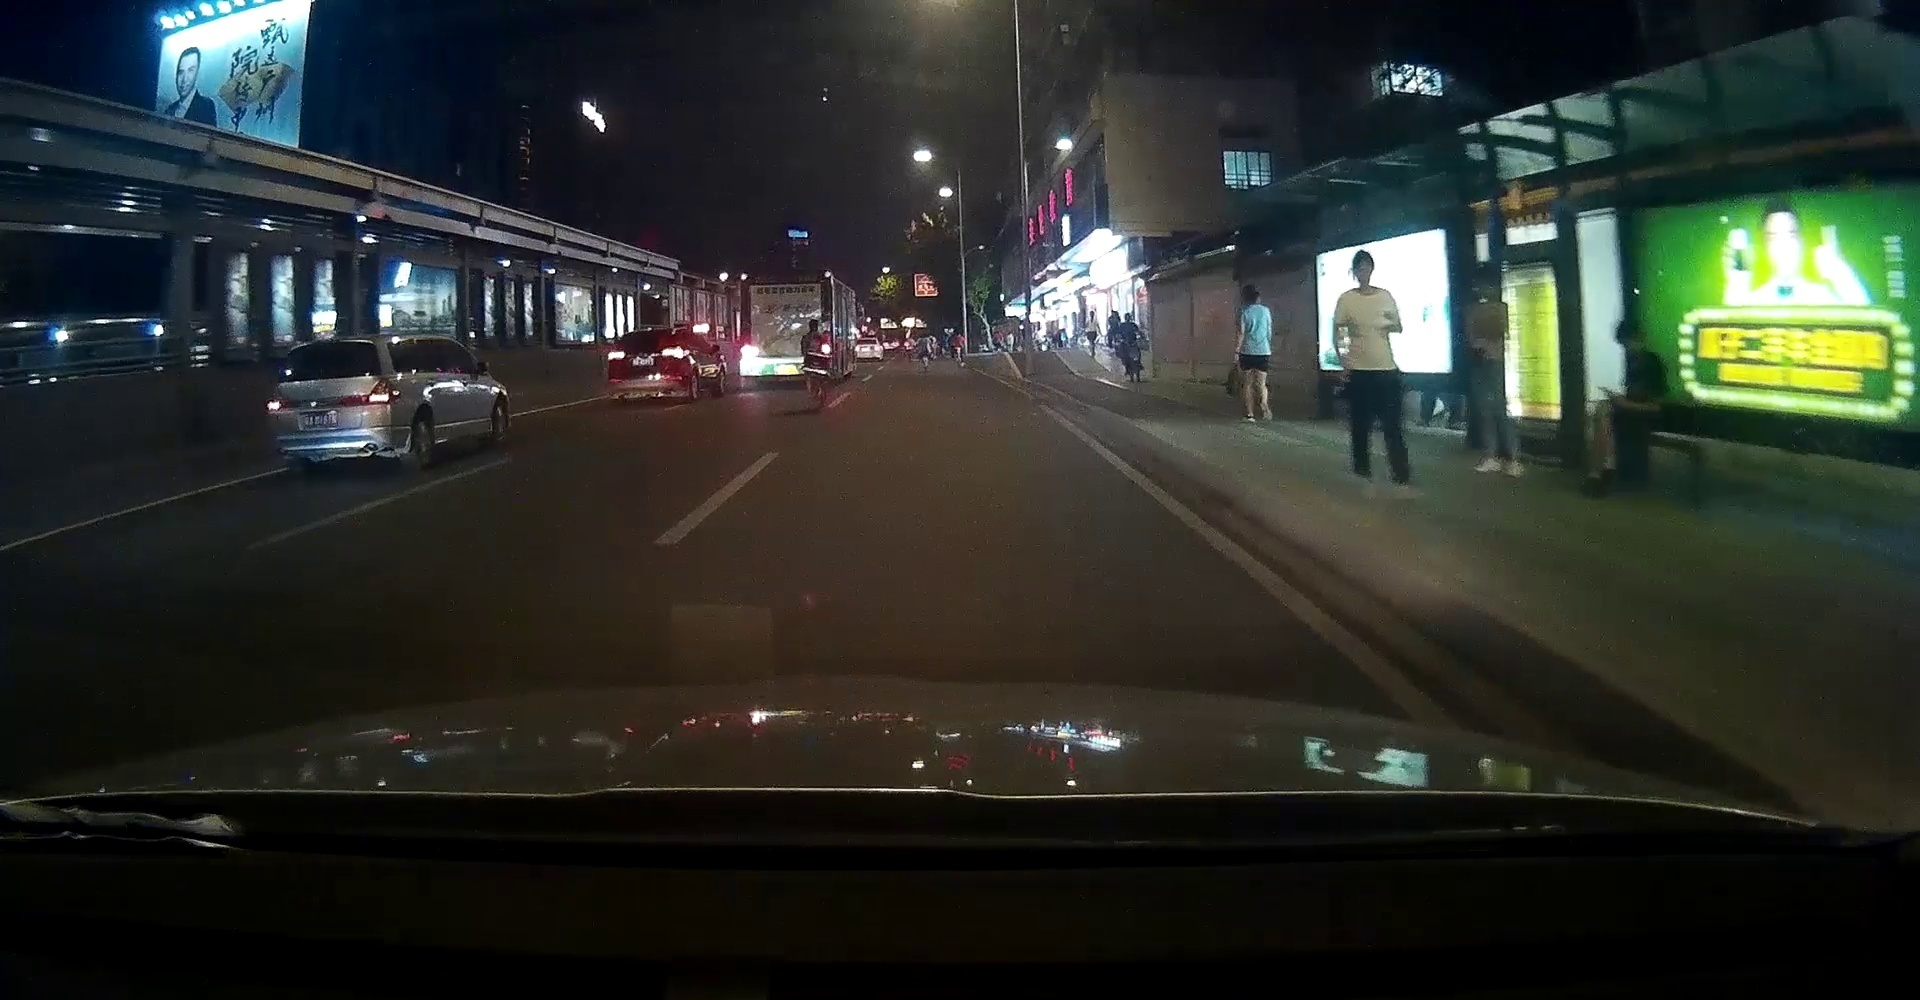L_light: (267, 387, 300, 410), (742, 336, 750, 358), (608, 352, 626, 360)
R_light: (342, 379, 400, 409), (662, 346, 684, 358), (823, 332, 832, 354)
T_light: (315, 344, 337, 348), (643, 332, 658, 338), (778, 277, 792, 280)
night-no: (267, 338, 403, 475), (740, 272, 833, 386), (608, 327, 687, 404)
